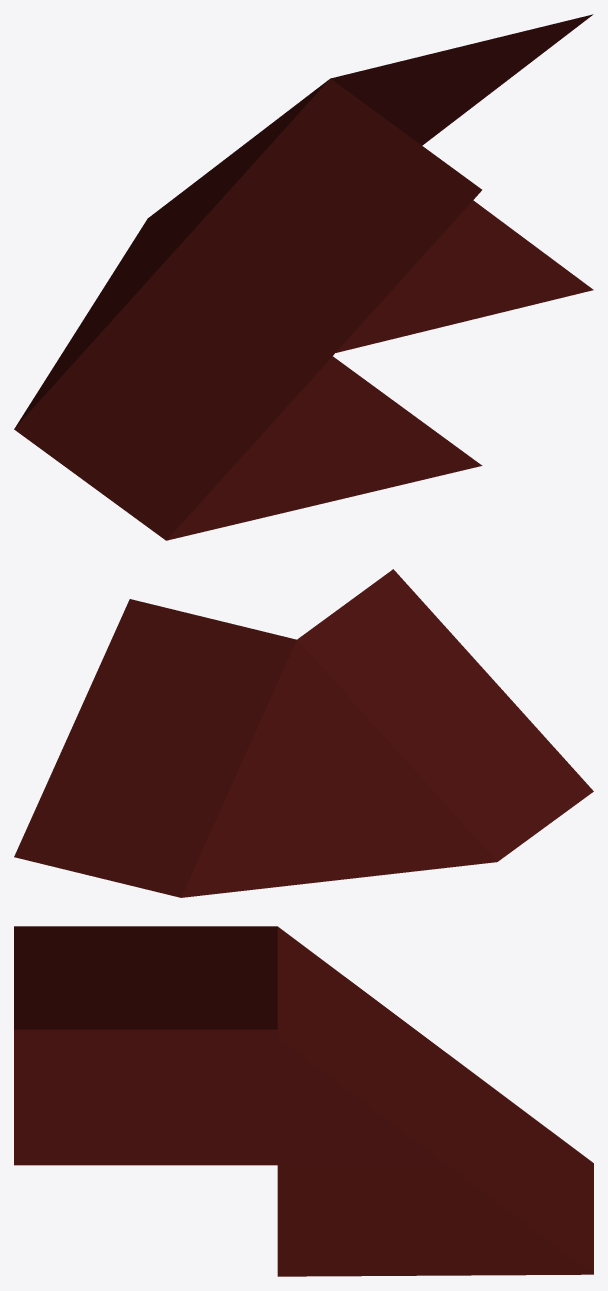
The model's file is RoofSlantCorner.FBX.
The picture shows the model from 3 angles, top to bottom: view 1: azimuth 30°, elevation 25°; view 2: azimuth 150°, elevation 25°; view 3: azimuth 270°, elevation 25°; orthographic projection. The views are drawn at different scales.
Parts seen in each view (by area): view 1: RoofSlantCorner; view 2: RoofSlantCorner; view 3: RoofSlantCorner.
Boxes of the visible parts, bbox=[...] form: RoofSlantCorner: bbox=[14, 14, 593, 540]; RoofSlantCorner: bbox=[14, 569, 593, 897]; RoofSlantCorner: bbox=[14, 926, 593, 1276].
Size of the model in its own units: 173 by 78.74 by 173.
